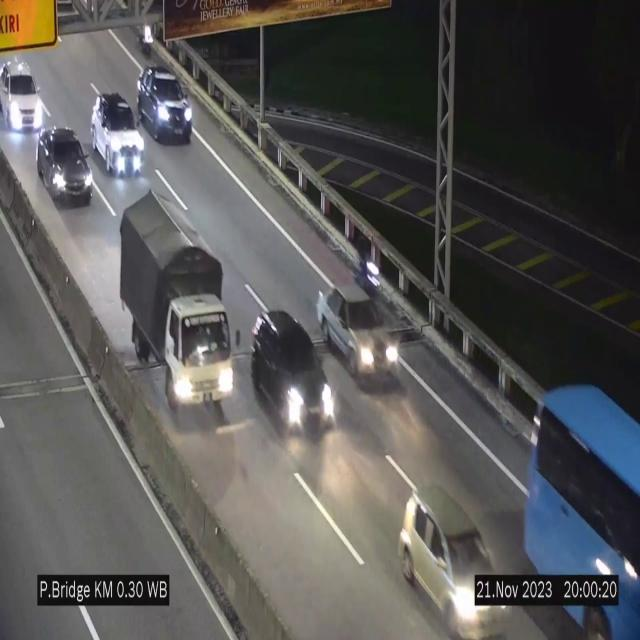Car: (402, 488, 514, 640), (249, 309, 334, 436), (314, 292, 398, 390), (91, 92, 145, 179), (137, 65, 193, 142), (37, 127, 93, 204), (0, 55, 45, 136)
Motorcycle: (351, 233, 381, 306)
Truck: (114, 186, 240, 417)
